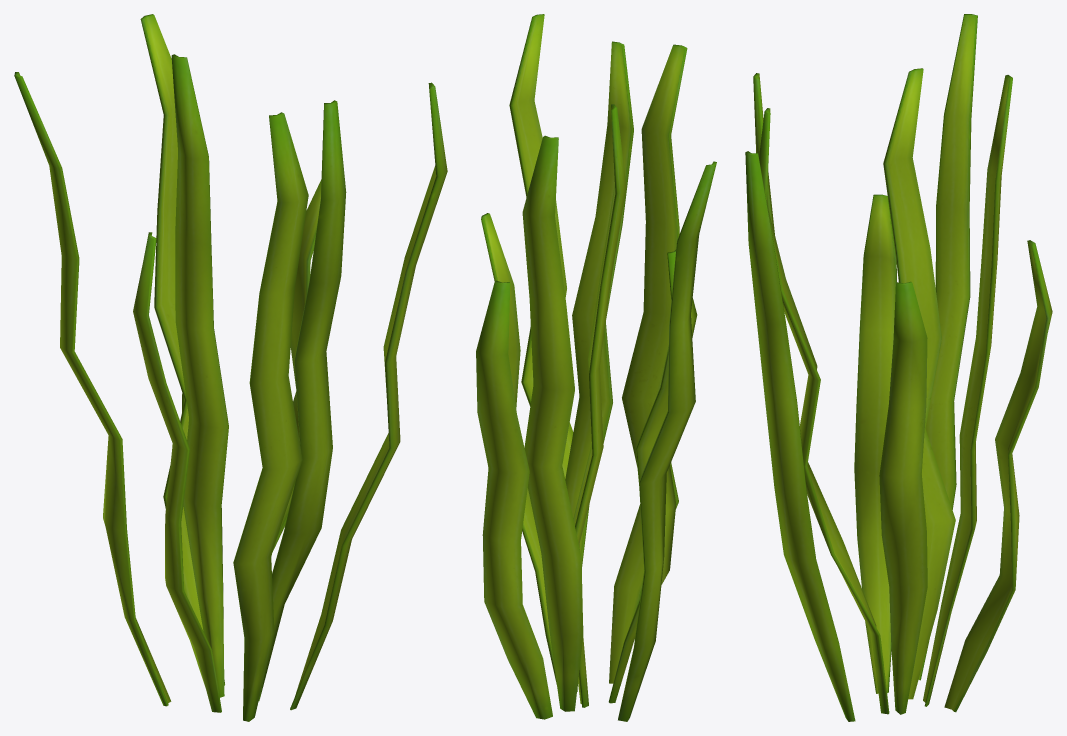
Rendered from PlantSeaweed01_7.FBX.
3 renders of one model, left to right at view 1: azimuth 30°, elevation 25°; view 2: azimuth 150°, elevation 25°; view 3: azimuth 270°, elevation 25°, orthographic. The views are drawn at different scales.
Visible parts, largest first — view 1: PlantSeaweed01_7; view 2: PlantSeaweed01_7; view 3: PlantSeaweed01_7.
Boxes of the visible parts, x1,y1,x2,y2 form: PlantSeaweed01_7: (14,14,447,721); PlantSeaweed01_7: (476,14,716,721); PlantSeaweed01_7: (745,14,1052,721).
Size of what is drawn, in the model's own units: 0.4739 by 0.9122 by 0.4131.
